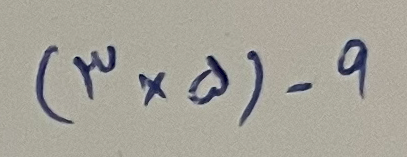character: (35, 40, 75, 128), (73, 42, 118, 100), (185, 53, 230, 106), (237, 49, 266, 130), (335, 37, 370, 100), (138, 69, 170, 105), (285, 80, 315, 95)
